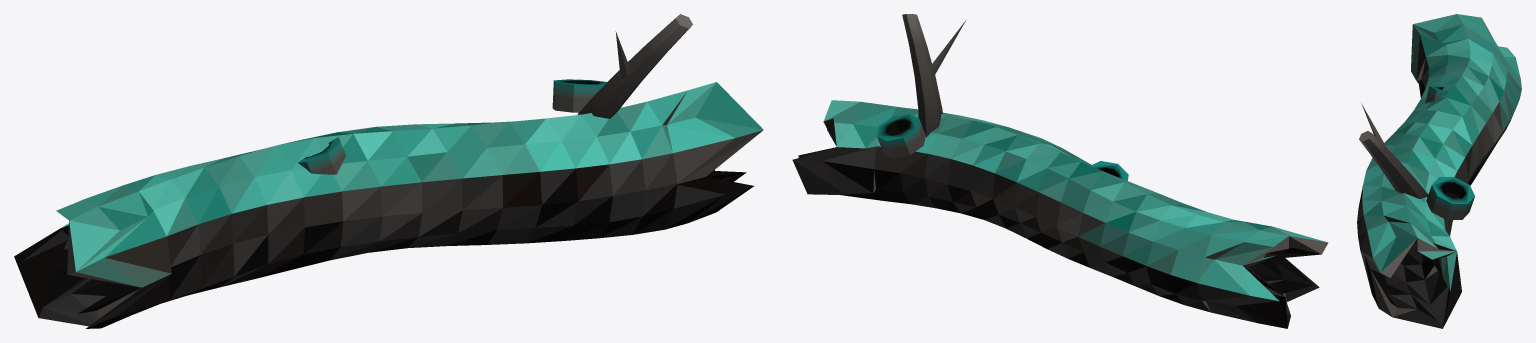
Rendered from pohon_tumbang_hollow_swamp_18292.glb.
The picture shows the model from 3 angles, left to right: view 1: azimuth 30°, elevation 25°; view 2: azimuth 150°, elevation 25°; view 3: azimuth 270°, elevation 25°; orthographic projection. The views are drawn at different scales.
Parts seen in each view (by area): view 1: Batang_Pohon_Berlubang; view 2: Batang_Pohon_Berlubang; view 3: Batang_Pohon_Berlubang.
Boxes of the visible parts, x1=… form: Batang_Pohon_Berlubang: x1=14, y1=14, x2=763, y2=328; Batang_Pohon_Berlubang: x1=792, y1=14, x2=1328, y2=328; Batang_Pohon_Berlubang: x1=1357, y1=14, x2=1521, y2=328.
Bounding box in the file's own units: 5.55 × 1.84 × 1.58.
